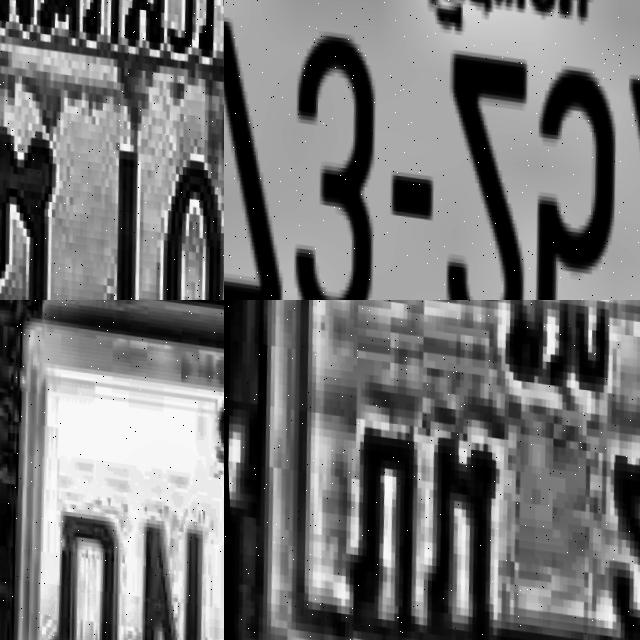license-plate: (230, 300, 640, 640), (224, 0, 640, 300), (0, 300, 224, 640), (0, 0, 224, 300)
